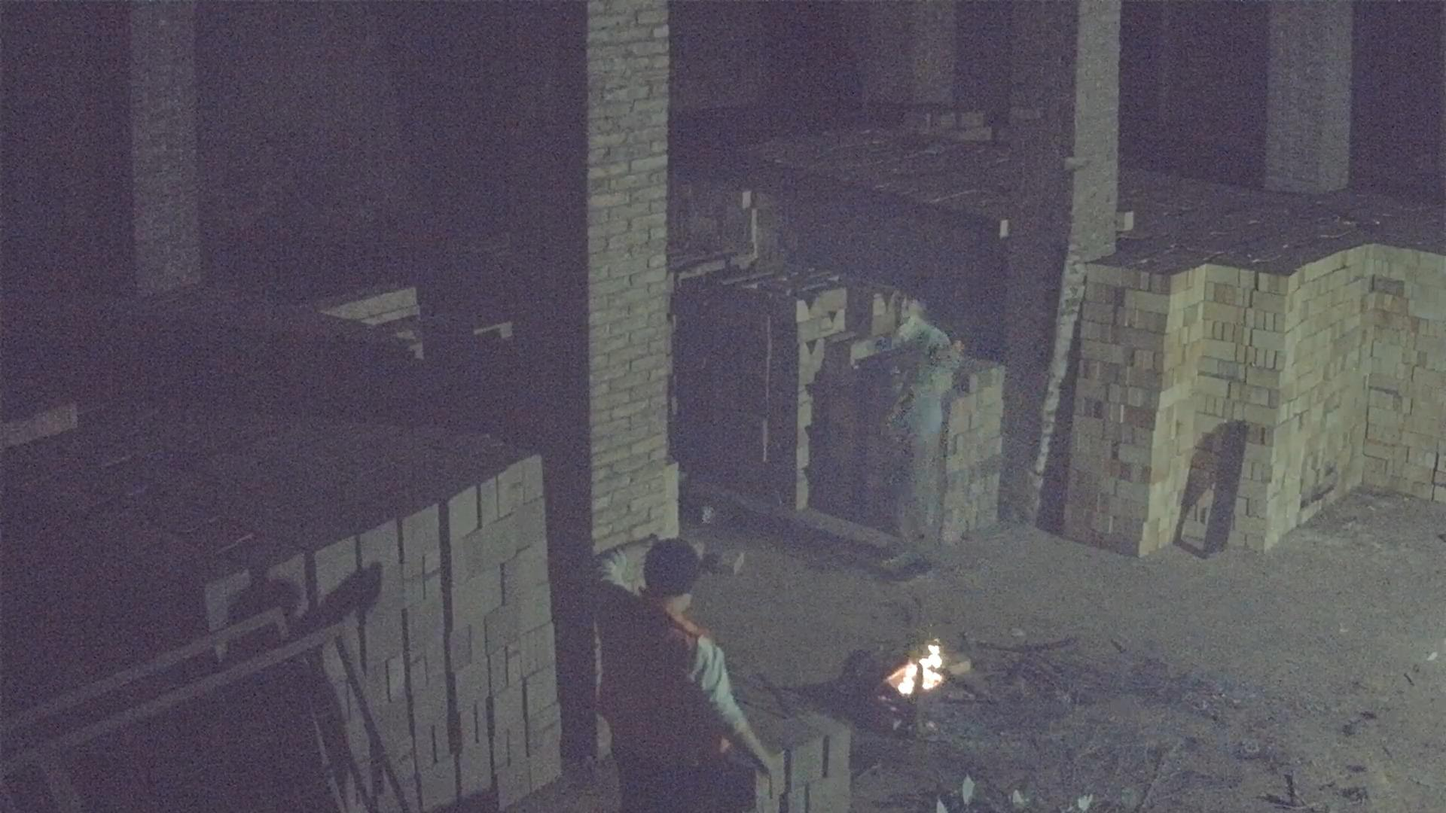fire: (894, 641, 943, 694)
